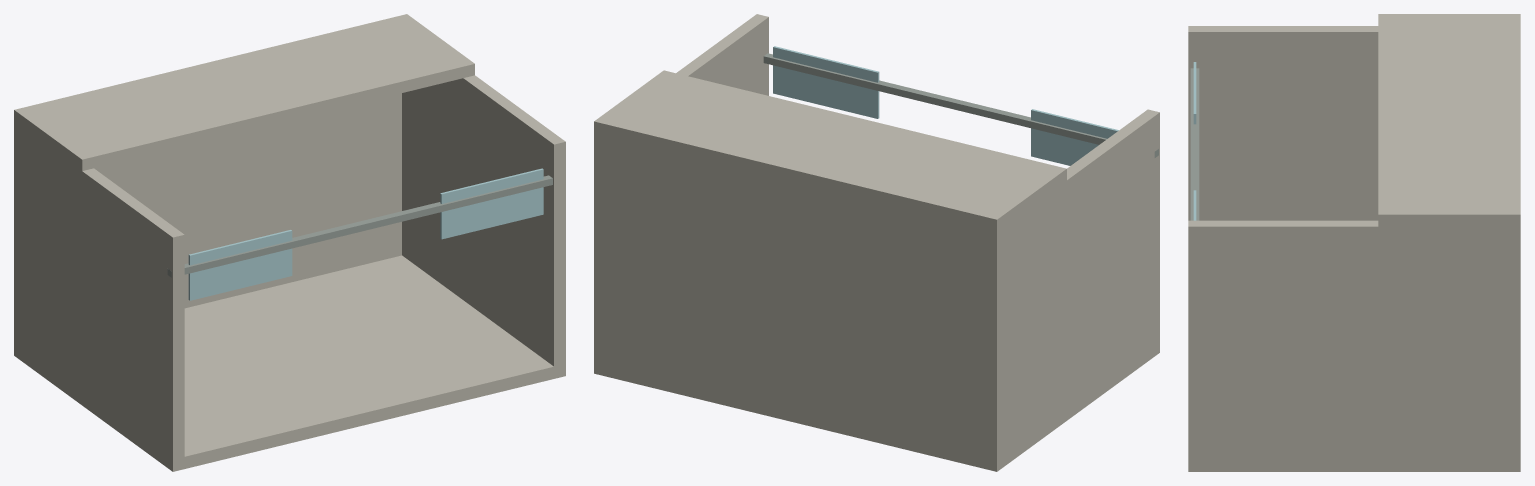
File: zoo-and-safari-park-builder-reptile-house-shell-5b221a0f__21520.glb
The picture shows the model from 3 angles, left to right: view 1: azimuth 30°, elevation 25°; view 2: azimuth 150°, elevation 25°; view 3: azimuth 270°, elevation 25°; orthographic projection. The views are drawn at different scales.
Visible parts, largest first — view 1: reptile-house-shell; view 2: reptile-house-shell; view 3: reptile-house-shell.
Part boxes in pixels (x1,y1,x2,y2): reptile-house-shell: (14,14,565,471); reptile-house-shell: (594,14,1159,471); reptile-house-shell: (1188,14,1520,471).
Bounding box in the file's own units: 5 × 2.99 × 3.5.
